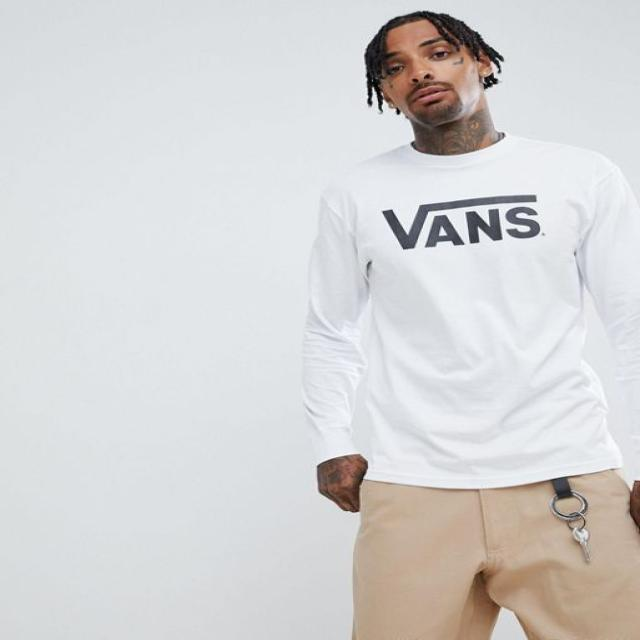tshirt: (298, 133, 636, 490)
